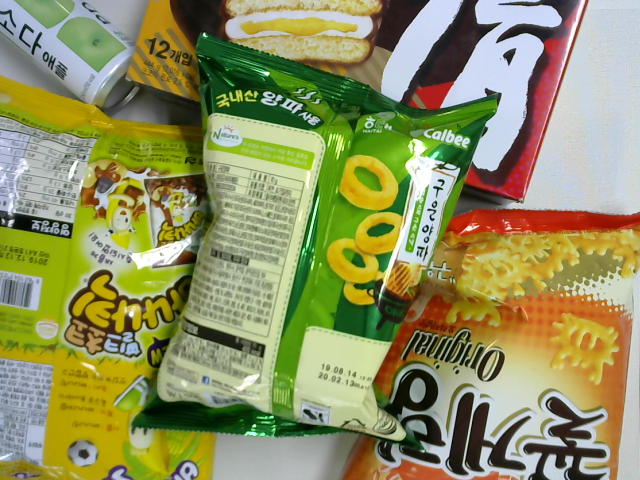Banana_Kick: (1, 75, 218, 478)
Choco_Pie_Banana: (122, 1, 592, 206)
Crabrang: (340, 209, 640, 478)
Demisoda_Apple_Can_250ml: (1, 1, 150, 118)
Grilled_Onions: (137, 27, 497, 455)
